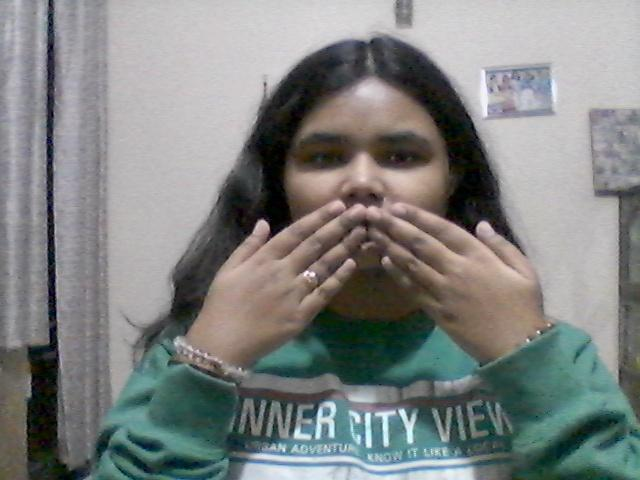thank you: (181, 195, 553, 376)
